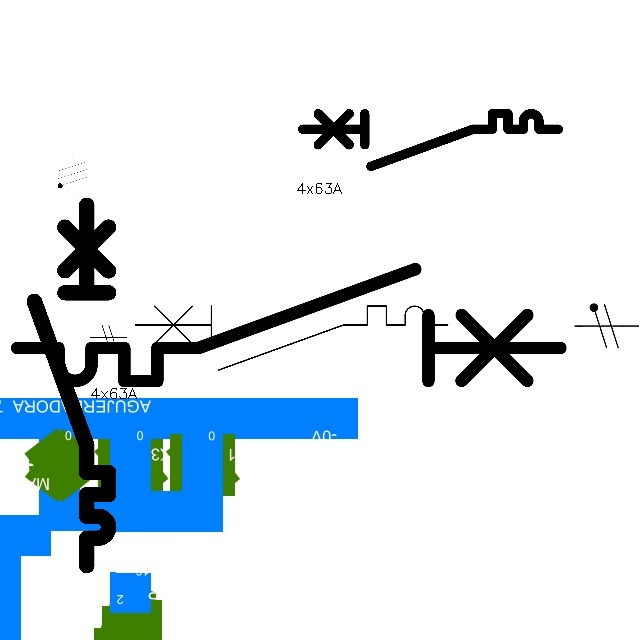interruptor_termomagnetico: (3, 255, 575, 395), (25, 195, 118, 574), (127, 298, 456, 378), (296, 107, 565, 173)
